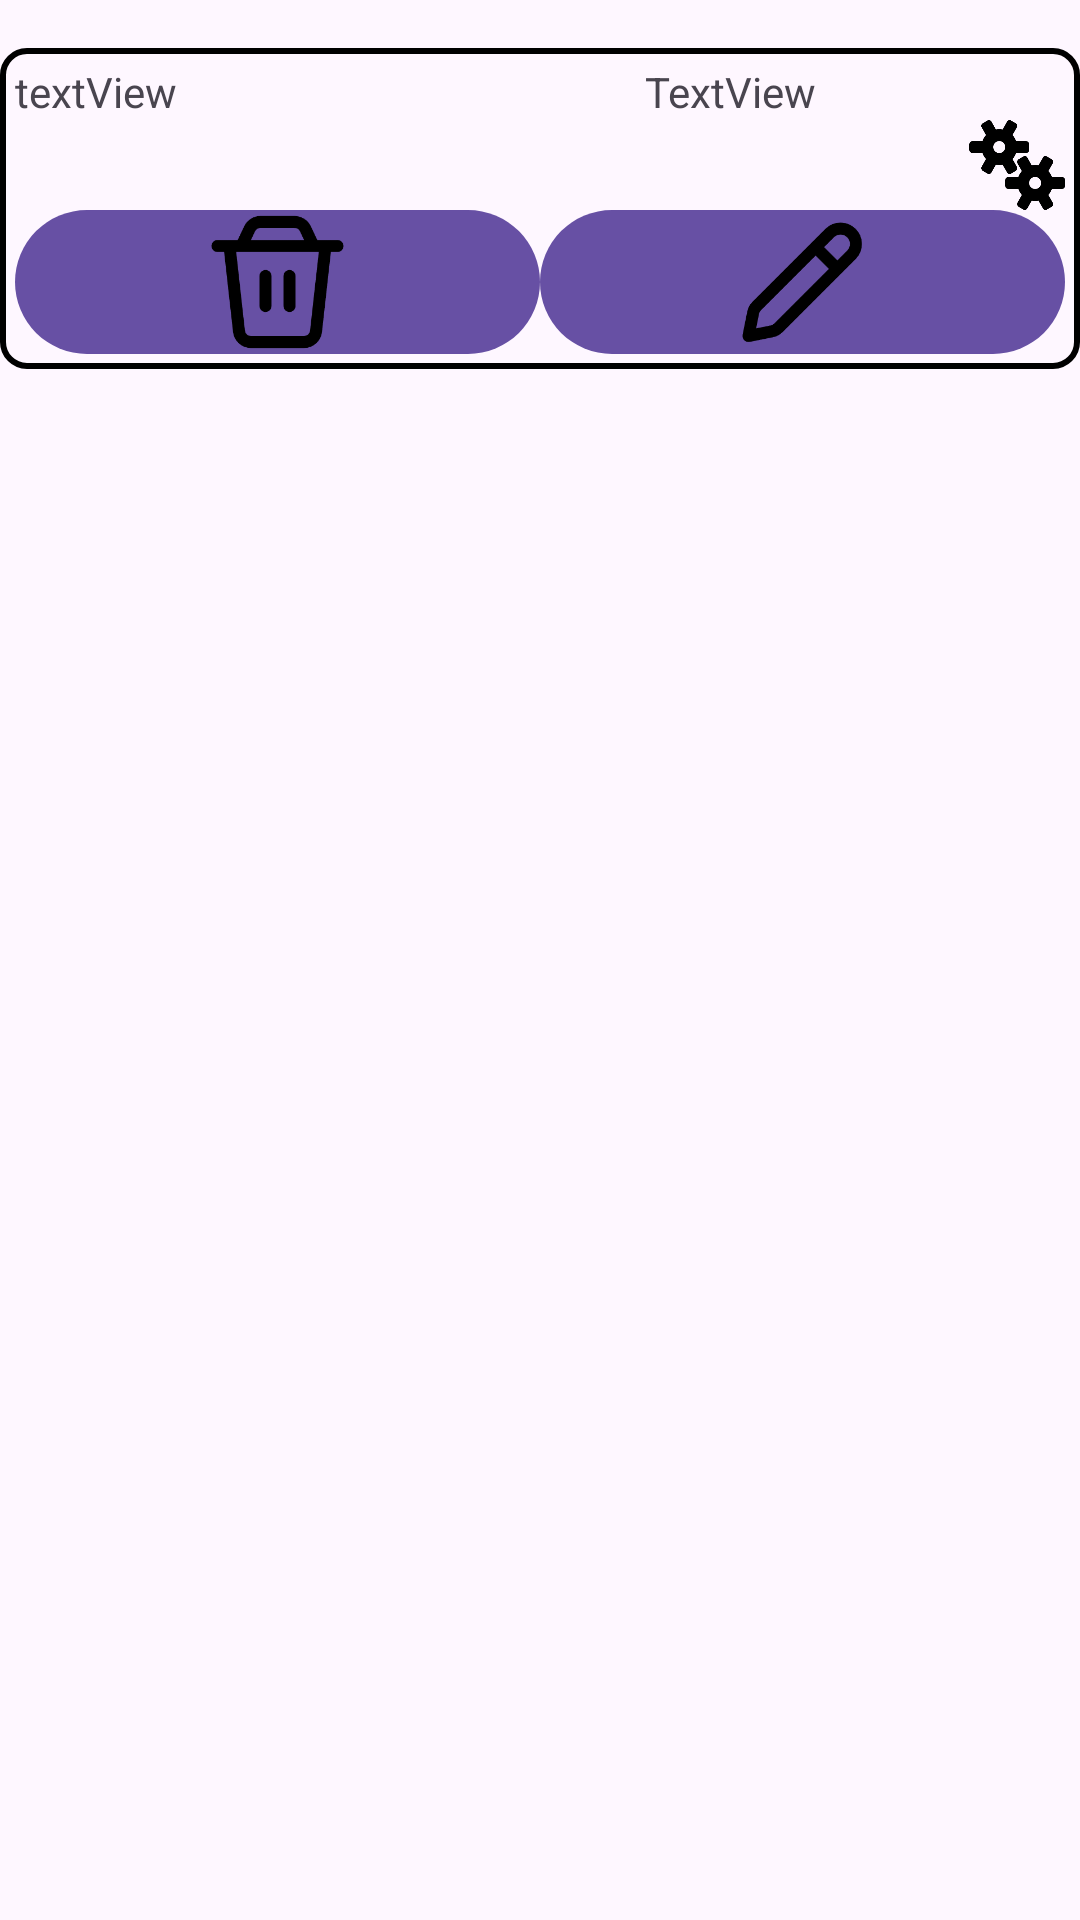

Screen size 1080*1920. Icon name, then its center in pixels as [x,y]:
working: [1017,165]
